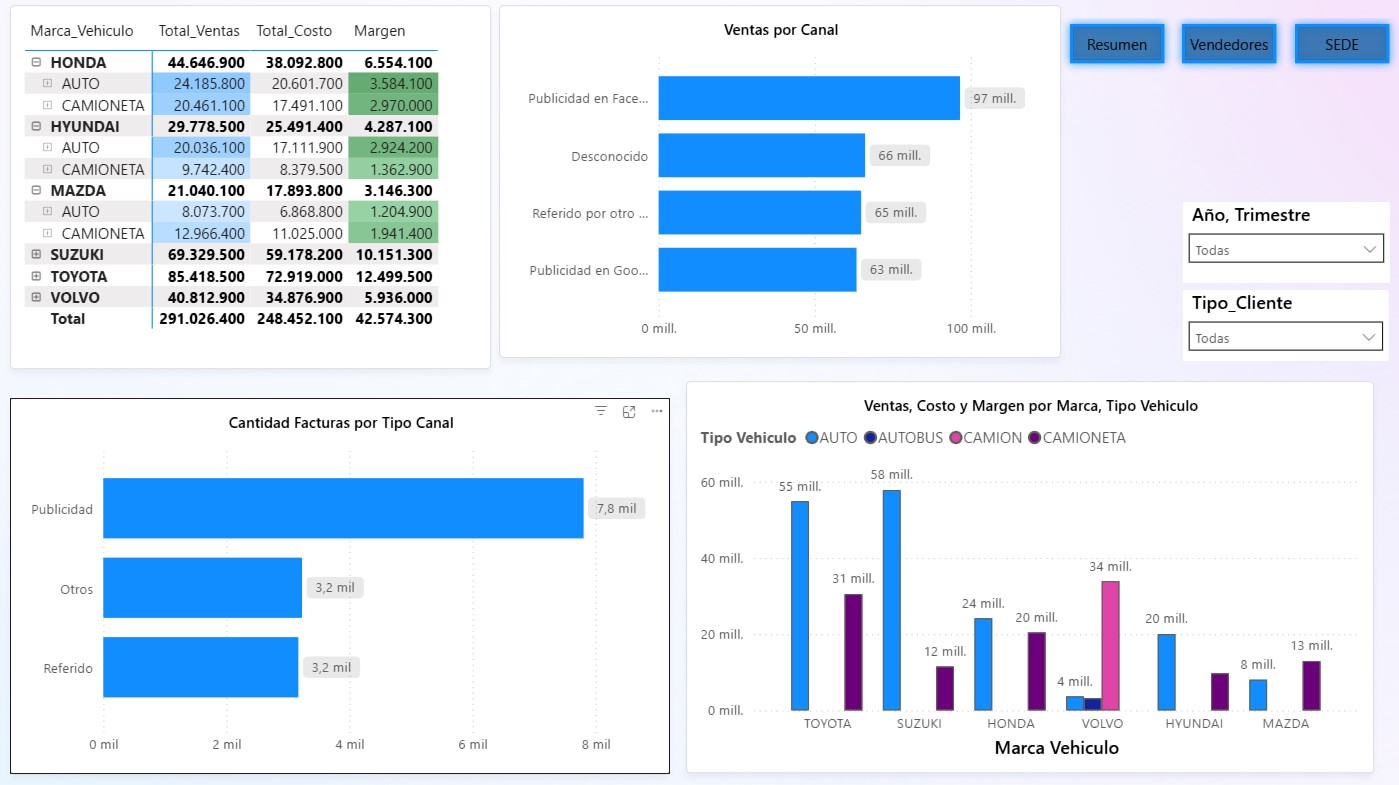

This screenshot's page, from the dashboard's own definition file:
{"tool":"powerbi","page":{"name":"Canales_Vehiculos","canvas":[1280,720],"ordinal":3},"visuals":[{"type":"barChart","title":"Ventas por Canal","fields":{"Category":["Canales.Canal"],"Y":["MEDIDAS.Total_Ventas"]},"box":[462,11,500,314],"z":0},{"type":"clusteredBarChart","title":"Cantidad Facturas por Tipo Canal","fields":{"Category":["Canales.Tipo_Canal"],"Y":["MEDIDAS.Cantidad_Facturas"]},"box":[26.6,360.2,587.2,334.6],"z":1000},{"type":"clusteredColumnChart","title":"Ventas, Costo y Margen por Marca, Tipo Vehiculo","fields":{"Category":["Vehiculos.Marca_Vehiculo"],"Series":["Vehiculos.Tipo_Vehiculo"],"Y":["MEDIDAS.Total_Ventas"]},"box":[627.7,345.4,611.9,349.4],"z":2000},{"type":"pivotTable","fields":{"Rows":["Vehiculos.Marca_Vehiculo","Vehiculos.Tipo_Vehiculo","Vehiculos.Modelo_Vehiculo","Vehiculos.Año_Vehiculo"],"Values":["MEDIDAS.Total_Ventas","MEDIDAS.Total_Costo","MEDIDAS.Margen"]},"box":[26.6,10.9,428.3,323.7],"z":3000},{"type":"slicer","fields":{"Values":["Factura.Tipo_Cliente"]},"box":[1069.8,264.5,182.6,63.2],"z":4000},{"type":"slicer","fields":{"Values":["Calendario.Fecha.Variación.Jerarquía de fechas.Año","Calendario.Fecha.Variación.Jerarquía de fechas.Trimestre"]},"box":[1069.8,185.5,183.6,72],"z":5000},{"type":"actionButton","title":"Vendedores","box":[961.6,19.8,99.8,50.9],"z":6000},{"type":"actionButton","title":"Vendedores","box":[1061.5,19.8,99.8,50.9],"z":7000},{"type":"actionButton","title":"Vendedores","box":[1161.3,19.8,99.8,50.9],"z":8000}]}

Visuals, with their boxes in screenshot pixels (x1, y1, x2, y2), scaled from the page's 1280x720 canvas onto the 1399x785 screenshot:
"Ventas por Canal" barChart: (left=505, top=12, right=1051, bottom=354)
"Cantidad Facturas por Tipo Canal" clusteredBarChart: (left=29, top=393, right=671, bottom=758)
"Ventas, Costo y Margen por Marca, Tipo Vehiculo" clusteredColumnChart: (left=686, top=377, right=1355, bottom=758)
pivotTable - Vehiculos.Marca_Vehiculo x Vehiculos.Tipo_Vehiculo: (left=29, top=12, right=497, bottom=365)
slicer - Factura.Tipo_Cliente: (left=1169, top=288, right=1369, bottom=357)
slicer - Calendario.Fecha.Variación.Jerarquía de fechas.Año x Calendario.Fecha.Variación.Jerarquía de fechas.Trimestre: (left=1169, top=202, right=1370, bottom=281)
"Vendedores" actionButton: (left=1051, top=22, right=1160, bottom=77)
"Vendedores" actionButton: (left=1160, top=22, right=1269, bottom=77)
"Vendedores" actionButton: (left=1269, top=22, right=1378, bottom=77)
